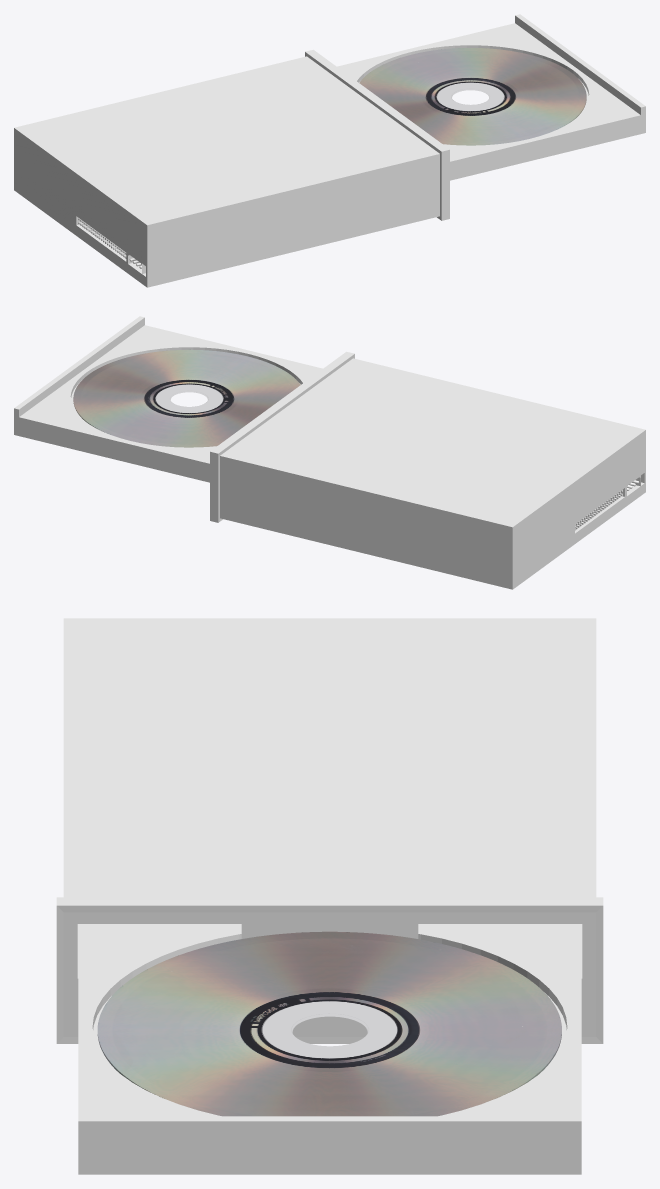
The model's file is cd drive.glb.
3 renders of one model, top to bottom at view 1: azimuth 30°, elevation 25°; view 2: azimuth 150°, elevation 25°; view 3: azimuth 270°, elevation 25°, orthographic. The views are drawn at different scales.
Visible parts, largest first — view 1: Cube, CD, Cube.001; view 2: Cube, CD, Cube.001; view 3: Cube, CD, Cube.001.
Boxes of the visible parts, x1,y1,x2,y2 form: Cube: [14, 49, 449, 287]; CD: [359, 48, 586, 145]; Cube.001: [337, 14, 645, 180]; Cube: [210, 351, 645, 589]; CD: [73, 349, 300, 447]; Cube.001: [14, 316, 322, 482]; Cube: [56, 618, 603, 1043]; CD: [97, 931, 561, 1116]; Cube.001: [78, 924, 581, 1174].
Size of the model in its own units: 2.93 by 0.386 by 1.38.
Materials: 8 (2 with a texture image).
